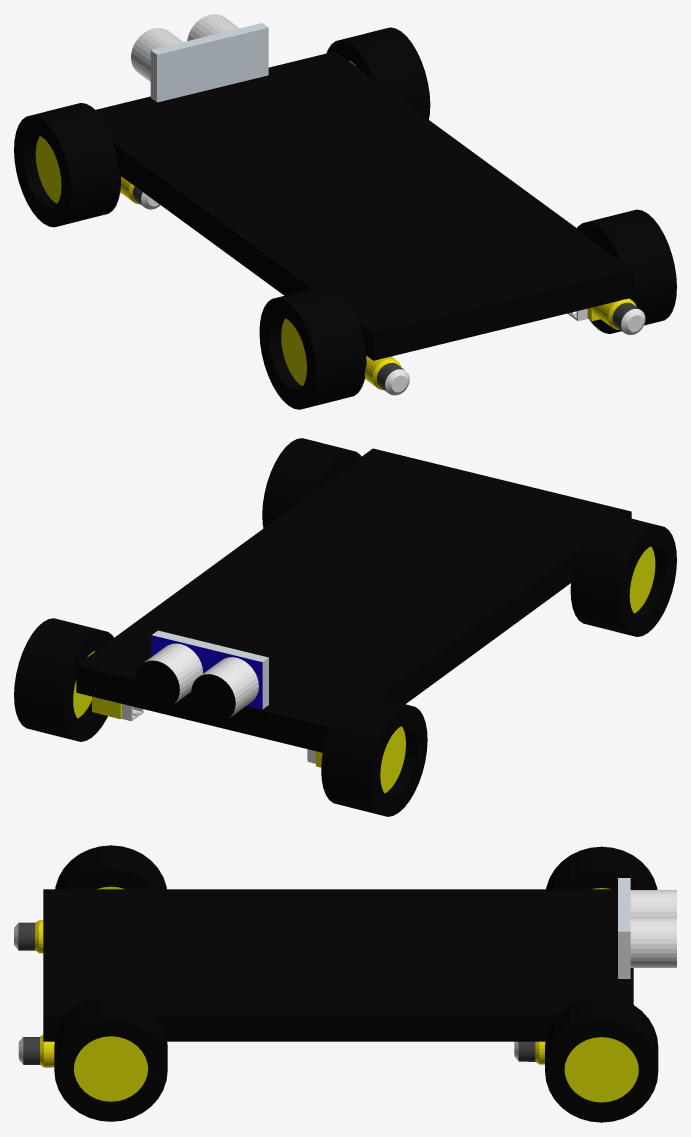
The model's file is car_with_wheel_and_motor.fbx.
3 renders of one model, top to bottom at view 1: azimuth 30°, elevation 25°; view 2: azimuth 150°, elevation 25°; view 3: azimuth 270°, elevation 25°, orthographic.
Visible parts, largest first — view 1: Cube, 圓柱體.021, 圓柱體, 圓柱體.022, 圓柱體.019, 圓柱體.016, 圓柱體.012, 圓柱體.001, 圓柱體.020; view 2: Cube, 圓柱體, 圓柱體.021, 圓柱體.019, 圓柱體.022, 圓柱體.020, 圓柱體.001; view 3: Cube, 圓柱體.019, 圓柱體.022, 圓柱體.018, 圓柱體.023, 圓柱體.021, 圓柱體, 圓柱體.012, 圓柱體.016, 圓柱體.005.
Boxes of the visible parts, x1,y1,x2,y2 form: Cube: (96,14,633,360); 圓柱體.021: (259,285,366,409); 圓柱體: (14,103,120,227); 圓柱體.022: (576,209,676,333); 圓柱體.019: (326,27,430,119); 圓柱體.016: (364,356,409,395); 圓柱體.012: (592,298,645,334); 圓柱體.001: (35,136,61,203); 圓柱體.020: (281,318,306,385); Cube: (76,448,631,752); 圓柱體: (321,693,427,816); 圓柱體.021: (570,513,676,636); 圓柱體.019: (14,618,113,741); 圓柱體.022: (262,438,361,528); 圓柱體.020: (629,546,655,613); 圓柱體.001: (380,726,405,793); Cube: (43,878,676,1041); 圓柱體.019: (545,996,658,1122); 圓柱體.022: (54,995,167,1121); 圓柱體.018: (564,1037,638,1102); 圓柱體.023: (74,1036,147,1101); 圓柱體.021: (55,845,166,889); 圓柱體: (546,846,657,889); 圓柱體.012: (18,1035,54,1067); 圓柱體.016: (14,920,43,953); 圓柱體.005: (514,1041,545,1064).
Bounding box in the file's own units: 729 × 255 × 1169.
